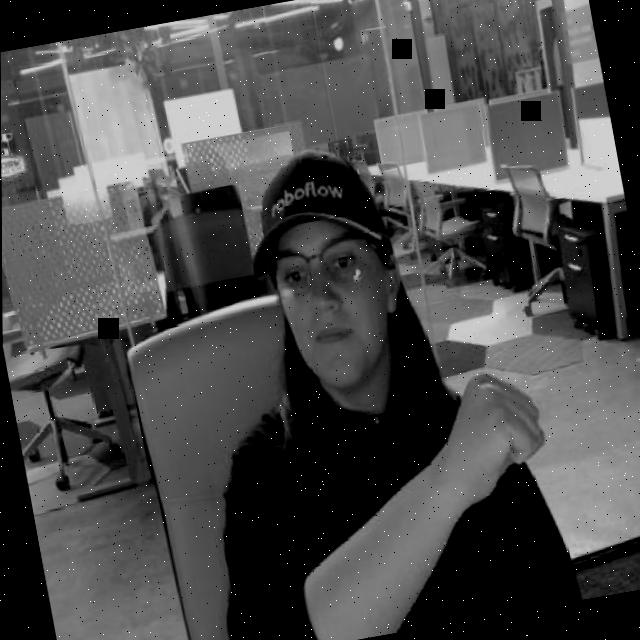Rock: (440, 360, 561, 511)
